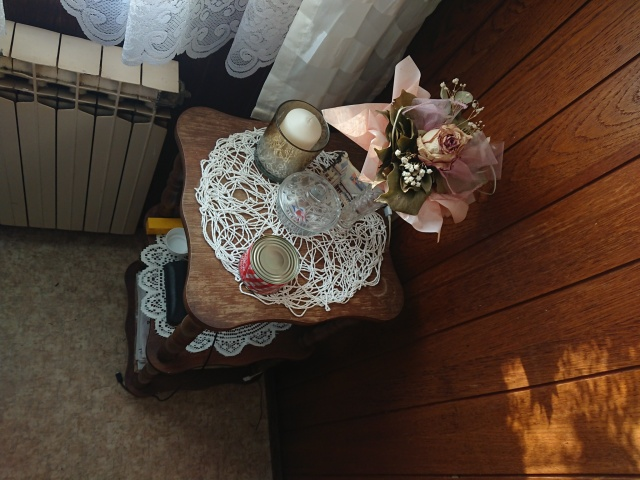Podravka Luncheon Meat 150g: (237, 233, 302, 298)
